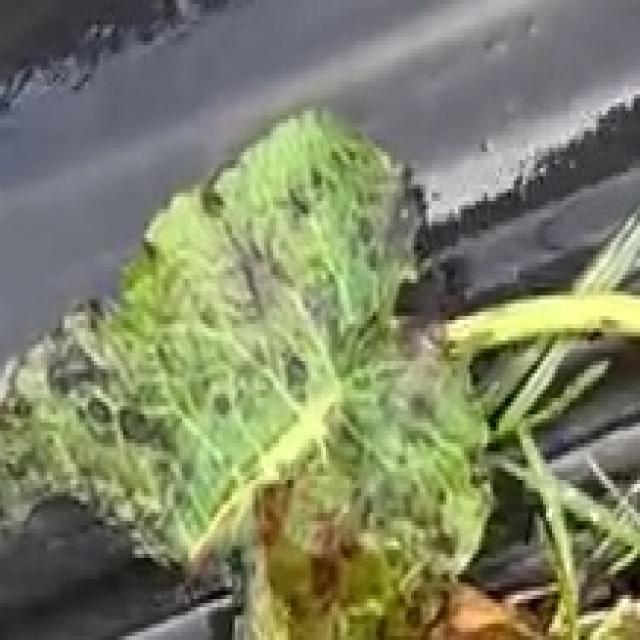organic waste: (0, 61, 560, 640)
